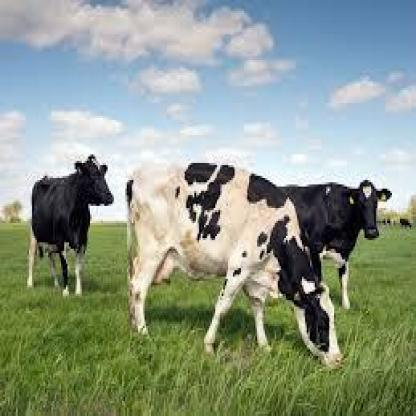cow: (126, 162, 348, 372), (280, 179, 390, 297), (29, 154, 112, 296)
